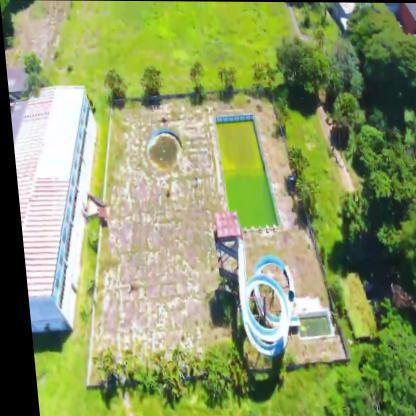agua: (214, 119, 270, 227), (142, 129, 180, 171)
